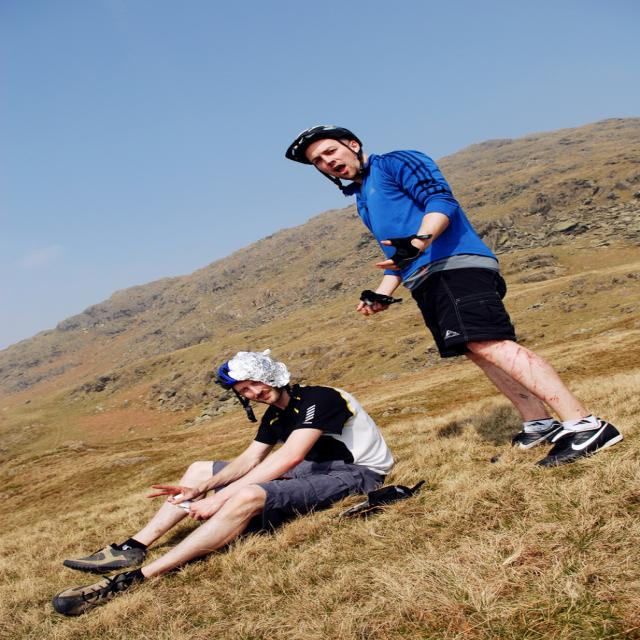no_helmet: (242, 349, 298, 390), (293, 121, 349, 161)
